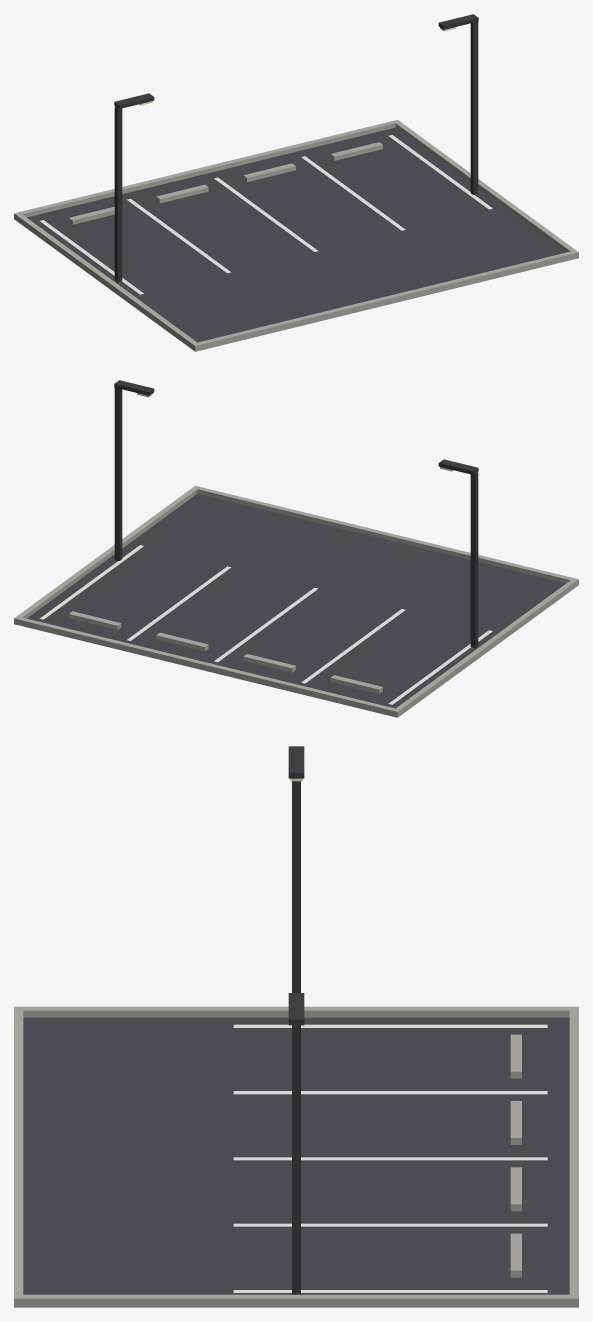
Rendered from parking_4.glb.
3 views of the same model, one above another, from view 1: azimuth 30°, elevation 25°; view 2: azimuth 150°, elevation 25°; view 3: azimuth 270°, elevation 25° (orthographic). The views are drawn at different scales.
Parts seen in each view (by area): view 1: parking_4; view 2: parking_4; view 3: parking_4.
Part boxes in pixels (x1=…): parking_4: x1=14, y1=14, x2=578, y2=351; parking_4: x1=14, y1=380, x2=578, y2=717; parking_4: x1=14, y1=746, x2=578, y2=1307.
Bounding box in the file's own units: 11 × 4.9 × 9.
Materials: 1 (1 with a texture image).
